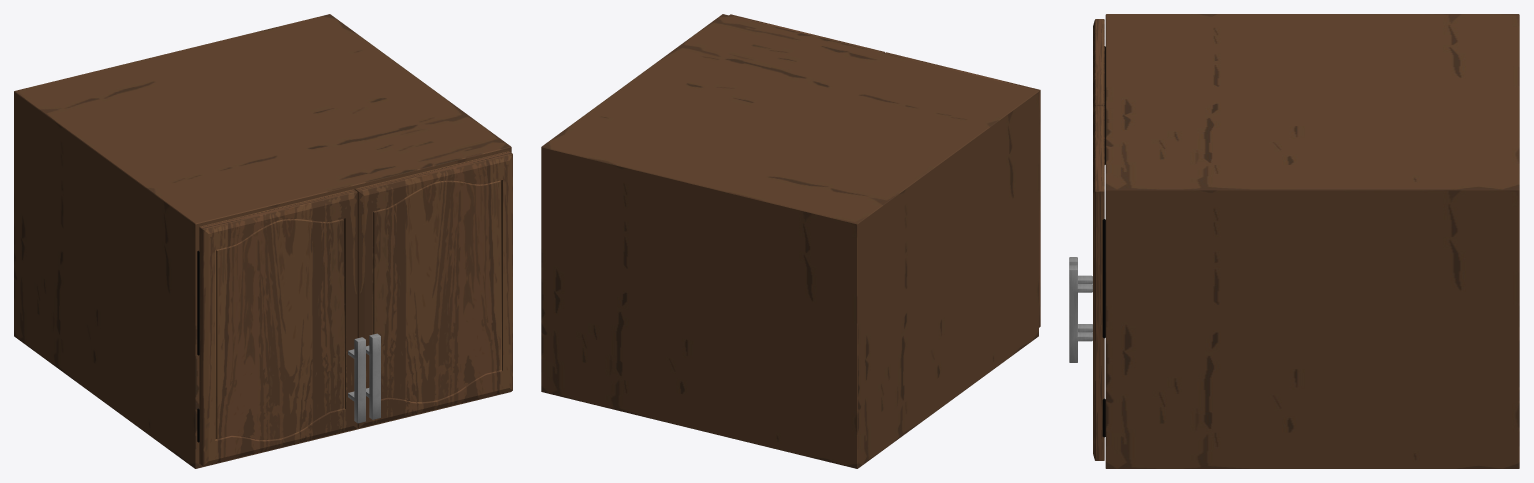
File: top - cabinet - large.fbx
3 renders of one model, left to right at view 1: azimuth 30°, elevation 25°; view 2: azimuth 150°, elevation 25°; view 3: azimuth 270°, elevation 25°, orthographic. The views are drawn at different scales.
Parts seen in each view (by area): view 1: Top - Cab - small - back, cab - door left.003, cab - door right.002; view 2: Top - Cab - small - back, cab - door left.003; view 3: Top - Cab - small - back, cab - door right.002, cab - door left.003.
Part boxes in pixels (x1,y1,x2,y2): Top - Cab - small - back: [14, 14, 511, 468]; cab - door left.003: [199, 189, 365, 466]; cab - door right.002: [354, 151, 512, 428]; Top - Cab - small - back: [541, 14, 1038, 468]; cab - door left.003: [884, 52, 1040, 327]; Top - Cab - small - back: [1102, 14, 1519, 468]; cab - door right.002: [1069, 105, 1104, 460]; cab - door left.003: [1069, 19, 1104, 332].
Size of the model in its own units: 10442 by 11296 by 7730.
